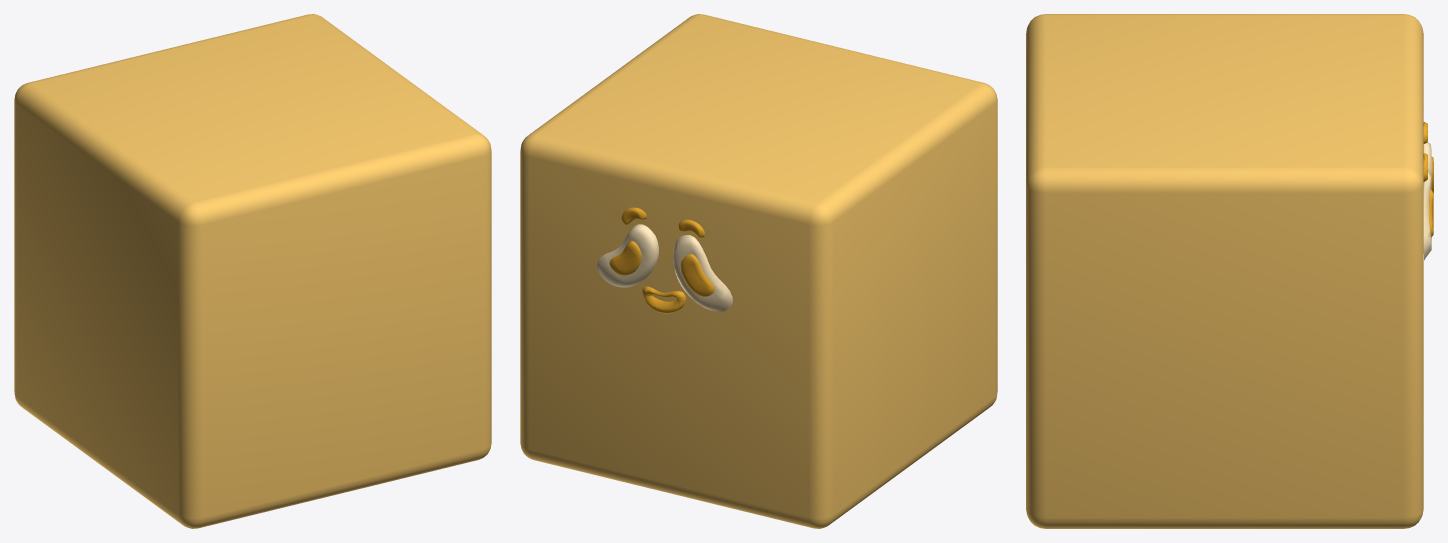
Rendered from Yellowcube_Big.fbx.
3 views of the same model, side by side, from view 1: azimuth 30°, elevation 25°; view 2: azimuth 150°, elevation 25°; view 3: azimuth 270°, elevation 25° (orthographic). The views are drawn at different scales.
Parts seen in each view (by area): view 1: Yellowcube_Big; view 2: Yellowcube_Big; view 3: Yellowcube_Big.
Boxes of the visible parts, x1,y1,x2,y2 form: Yellowcube_Big: (14, 14, 491, 528); Yellowcube_Big: (520, 14, 997, 528); Yellowcube_Big: (1026, 14, 1433, 528).
Size of the model in its own units: 308 by 308 by 316.
